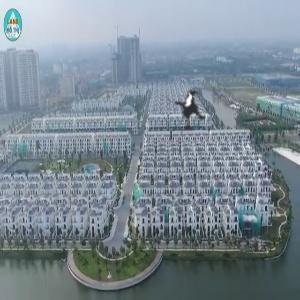drone: (146, 64, 242, 160)
